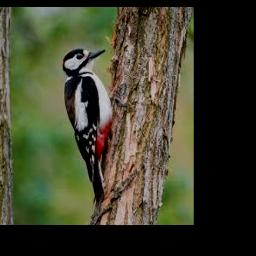Woodpecker: (62, 49, 113, 205)
